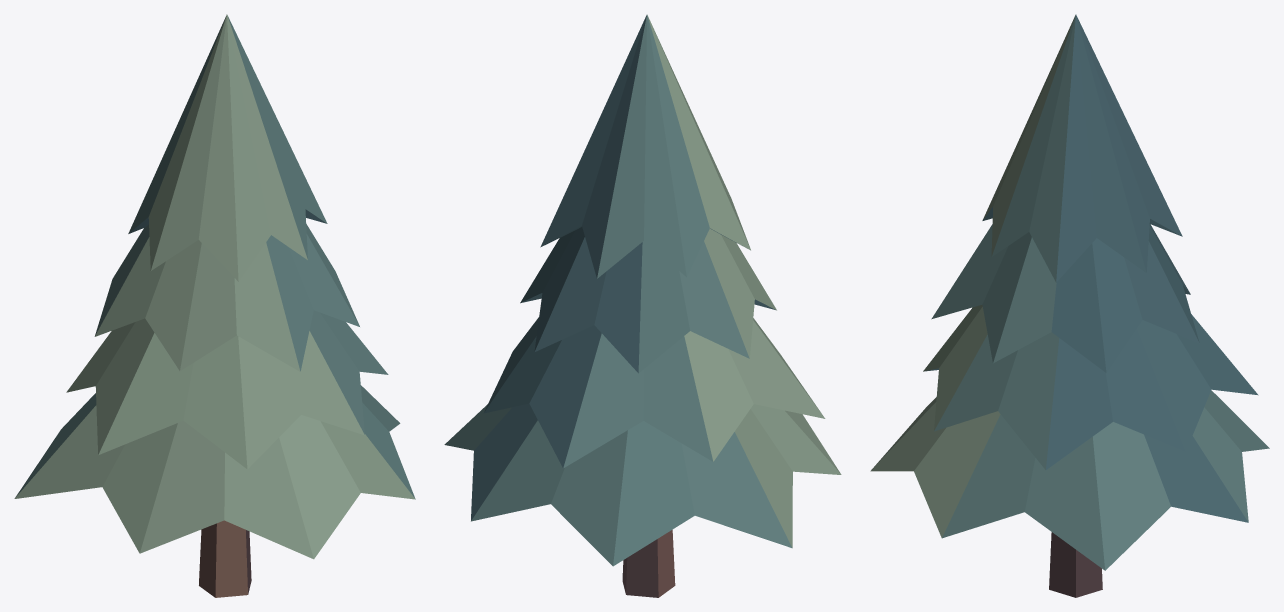
The model's file is pine_s.glb.
The picture shows the model from 3 angles, left to right: view 1: azimuth 30°, elevation 25°; view 2: azimuth 150°, elevation 25°; view 3: azimuth 270°, elevation 25°; orthographic projection.
Parts seen in each view (by area): view 1: pine_s; view 2: pine_s; view 3: pine_s.
Part boxes in pixels (<box>): pine_s: <box>14,14,415,597</box>; pine_s: <box>444,14,841,597</box>; pine_s: <box>870,14,1269,597</box>.
Size of the model in its own units: 1.91 by 2.85 by 1.81.
